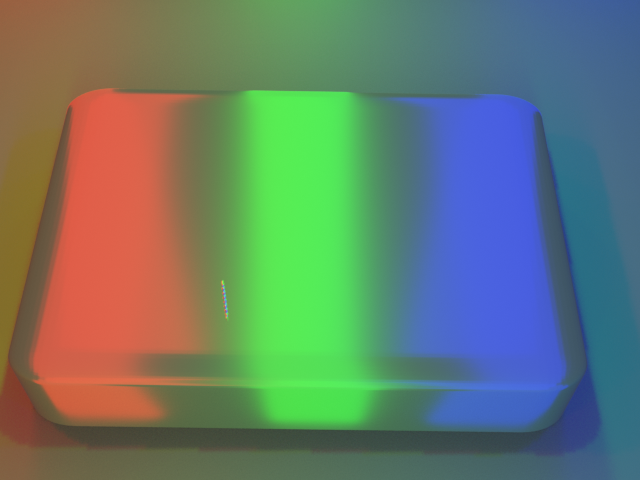scratch: (129, 258, 296, 358)
